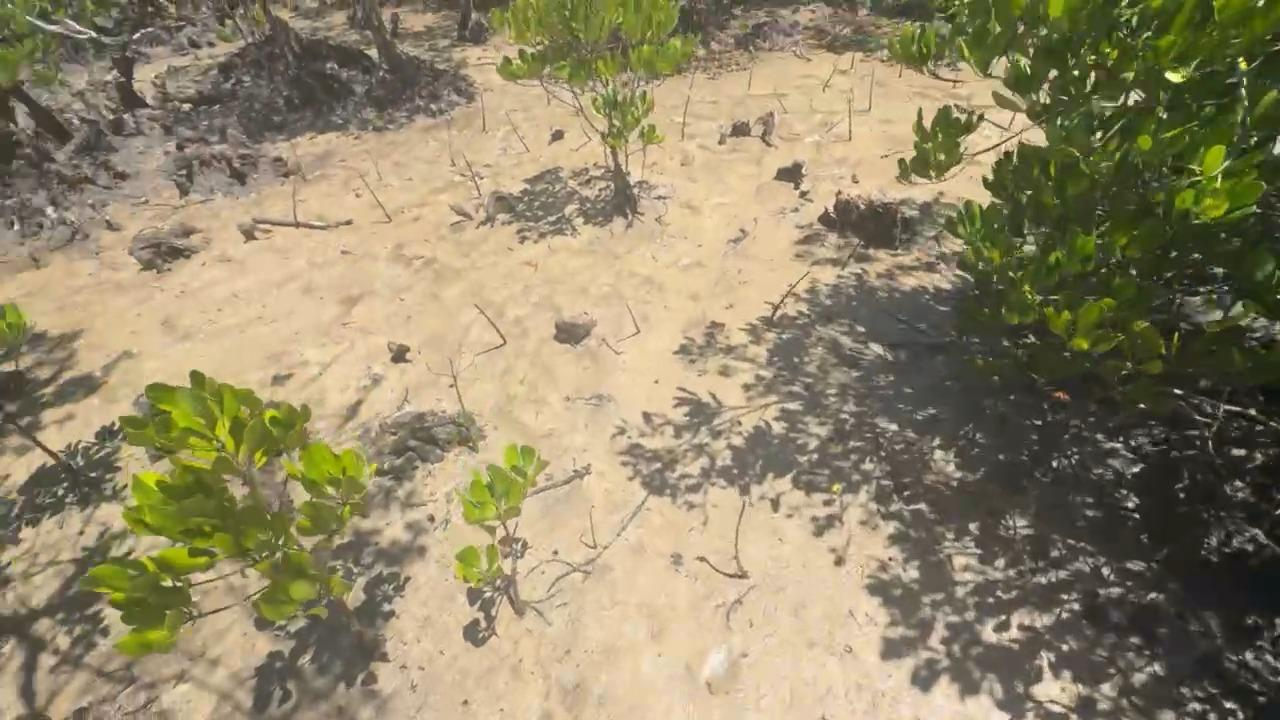Tree: (454, 444, 548, 616), (452, 375, 479, 454), (771, 272, 809, 318), (358, 174, 393, 223), (473, 302, 506, 345), (735, 501, 750, 579), (507, 110, 532, 152), (462, 151, 482, 196), (841, 236, 864, 272), (289, 142, 308, 181), (446, 119, 457, 167), (689, 54, 702, 90), (681, 94, 691, 140), (626, 304, 641, 333), (291, 183, 300, 228), (823, 63, 836, 90), (589, 513, 598, 549), (869, 67, 876, 110), (748, 59, 756, 90), (581, 123, 593, 141), (776, 96, 788, 112), (481, 93, 486, 131), (848, 98, 852, 142), (1007, 112, 1016, 131), (851, 48, 857, 70), (898, 63, 903, 77)
